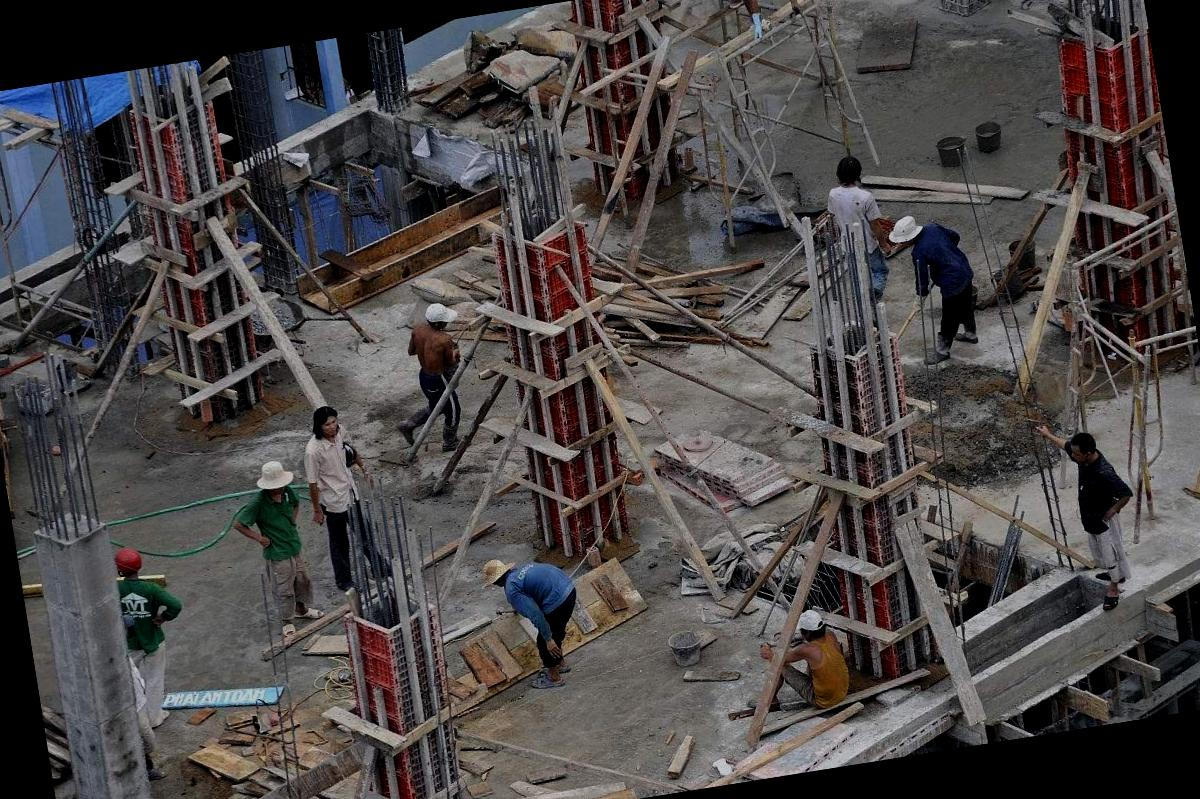person: (234, 457, 327, 636), (890, 198, 989, 364), (394, 292, 490, 460), (479, 545, 592, 679), (110, 542, 192, 719)
